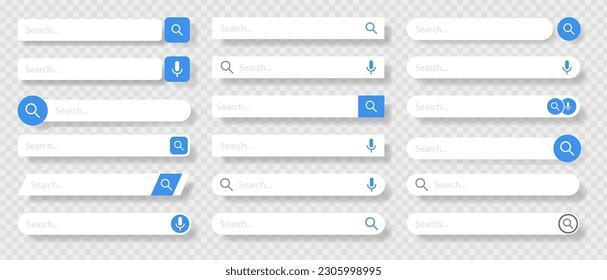icon: (18, 96, 49, 126), (164, 18, 192, 45), (555, 134, 581, 163), (165, 58, 191, 83), (558, 17, 583, 42), (359, 96, 386, 118), (153, 175, 181, 196), (559, 215, 579, 234), (172, 215, 190, 235), (413, 179, 432, 196), (171, 138, 189, 155), (363, 216, 380, 233), (560, 59, 576, 76), (221, 60, 236, 76), (366, 176, 379, 194), (366, 137, 379, 155), (366, 58, 379, 76), (364, 22, 380, 36), (551, 102, 563, 113), (566, 101, 575, 114)
input: (18, 213, 193, 237), (408, 212, 580, 236), (211, 213, 387, 236), (408, 57, 582, 80), (406, 16, 554, 43), (213, 56, 385, 79), (212, 18, 386, 40), (408, 97, 582, 119), (407, 174, 581, 196), (213, 136, 385, 158), (212, 94, 357, 120), (20, 136, 190, 158), (212, 176, 386, 197), (48, 99, 193, 124), (21, 175, 191, 196), (406, 139, 553, 162), (18, 21, 164, 42), (20, 60, 163, 81)
